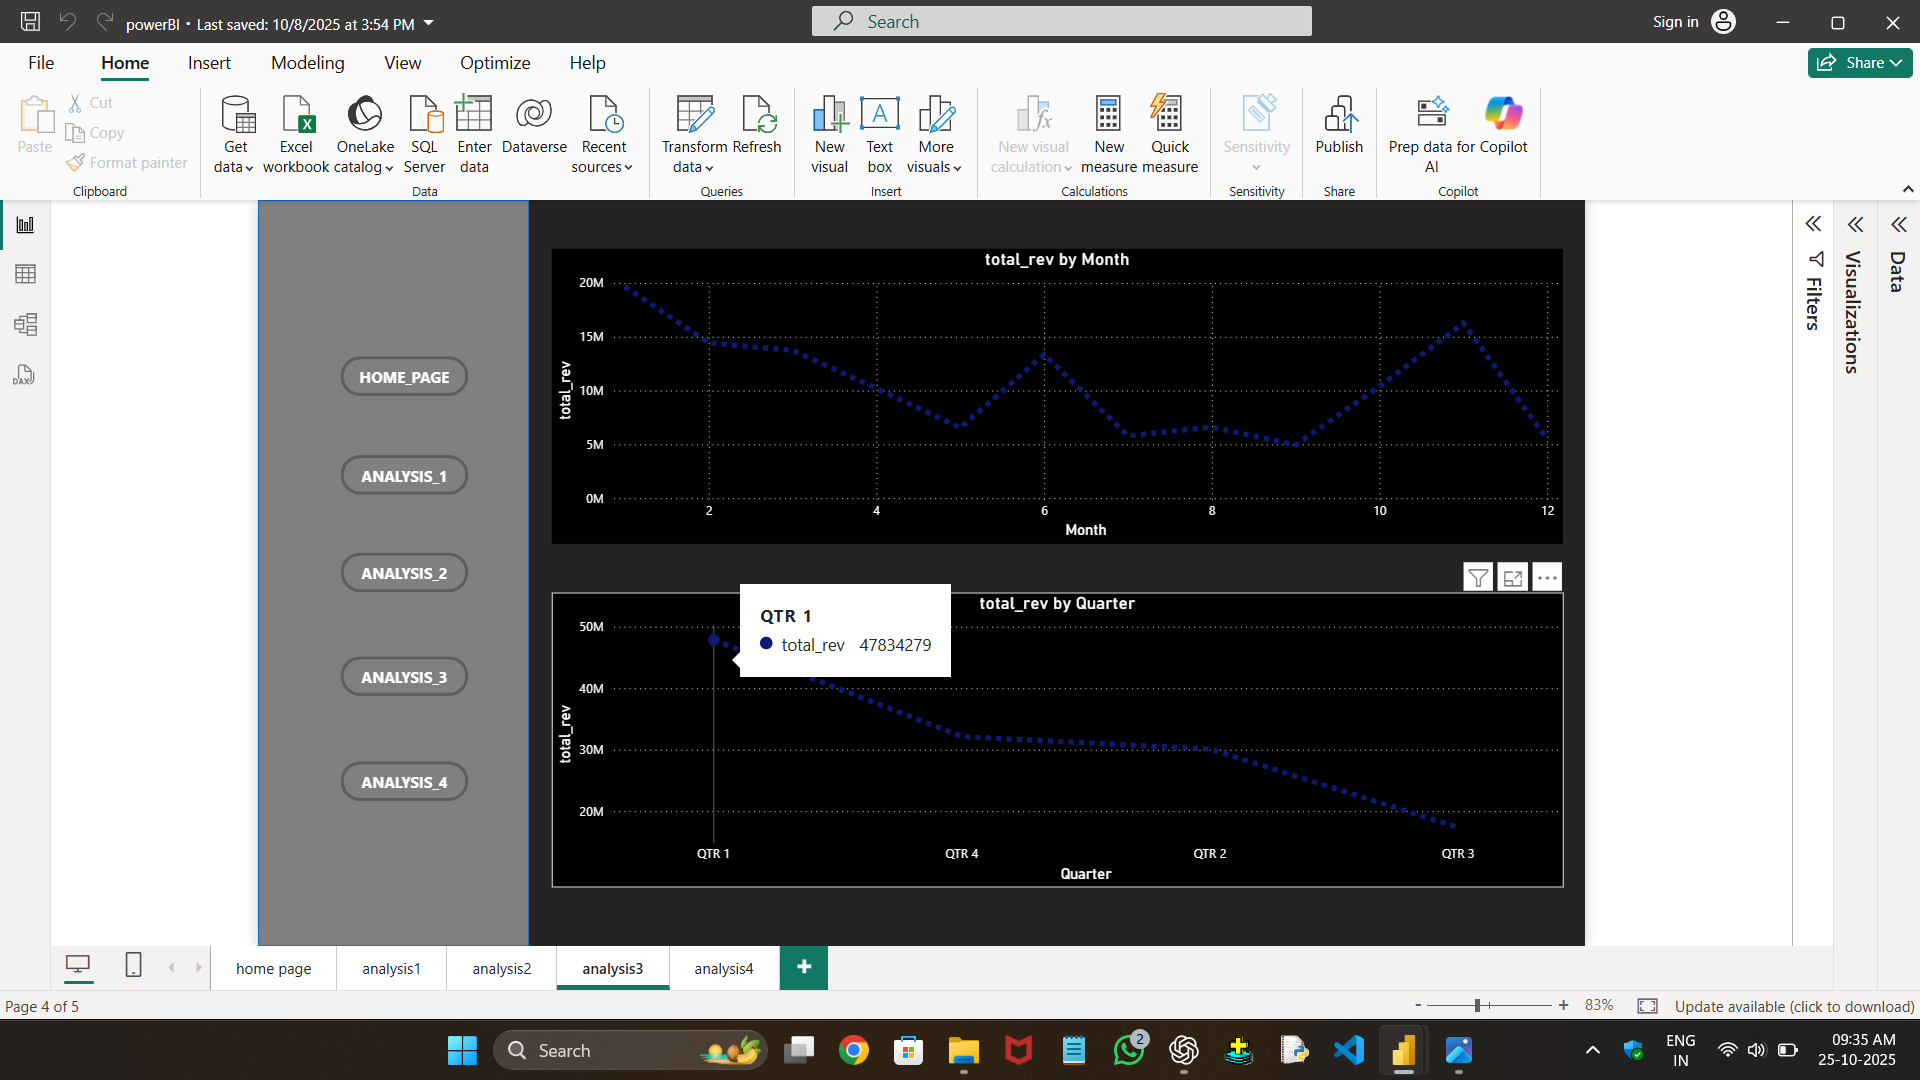

The dashboard page shown, as its layout file describes it:
{"tool":"powerbi","page":{"name":" analysis3","canvas":[1280,720],"ordinal":3},"visuals":[{"type":"shape","box":[0,0,261.8,720.2],"z":0},{"type":"actionButton","box":[79.6,150.9,123.5,38.4],"z":1000},{"type":"actionButton","box":[79.6,245.6,123.5,38.4],"z":2000},{"type":"actionButton","box":[79.6,340.3,123.5,38.4],"z":3000},{"type":"actionButton","box":[79.6,440.5,123.5,38.4],"z":4000},{"type":"actionButton","box":[79.6,542,123.5,38.4],"z":5000},{"type":"lineChart","fields":{"Category":["DataSet.Month"],"Y":["DataSet.total_rev"]},"box":[283.5,47.1,976,284.7],"z":6000},{"type":"lineChart","fields":{"Category":["DataSet.Quarter"],"Y":["DataSet.total_rev"]},"box":[283.5,378.8,976,284.7],"z":7000}]}

Visuals, with their boxes on the page's 1280x720 design canvas (x1, y1, x2, y2). These are canvas units, not pixel positions in the 1920x1080 screenshot, which may show the page scaled, cropped or inside an application window:
shape: bbox=(0, 0, 262, 720)
actionButton: bbox=(80, 151, 203, 189)
actionButton: bbox=(80, 246, 203, 284)
actionButton: bbox=(80, 340, 203, 379)
actionButton: bbox=(80, 440, 203, 479)
actionButton: bbox=(80, 542, 203, 580)
lineChart - DataSet.Month x DataSet.total_rev: bbox=(284, 47, 1260, 332)
lineChart - DataSet.Quarter x DataSet.total_rev: bbox=(284, 379, 1260, 664)
